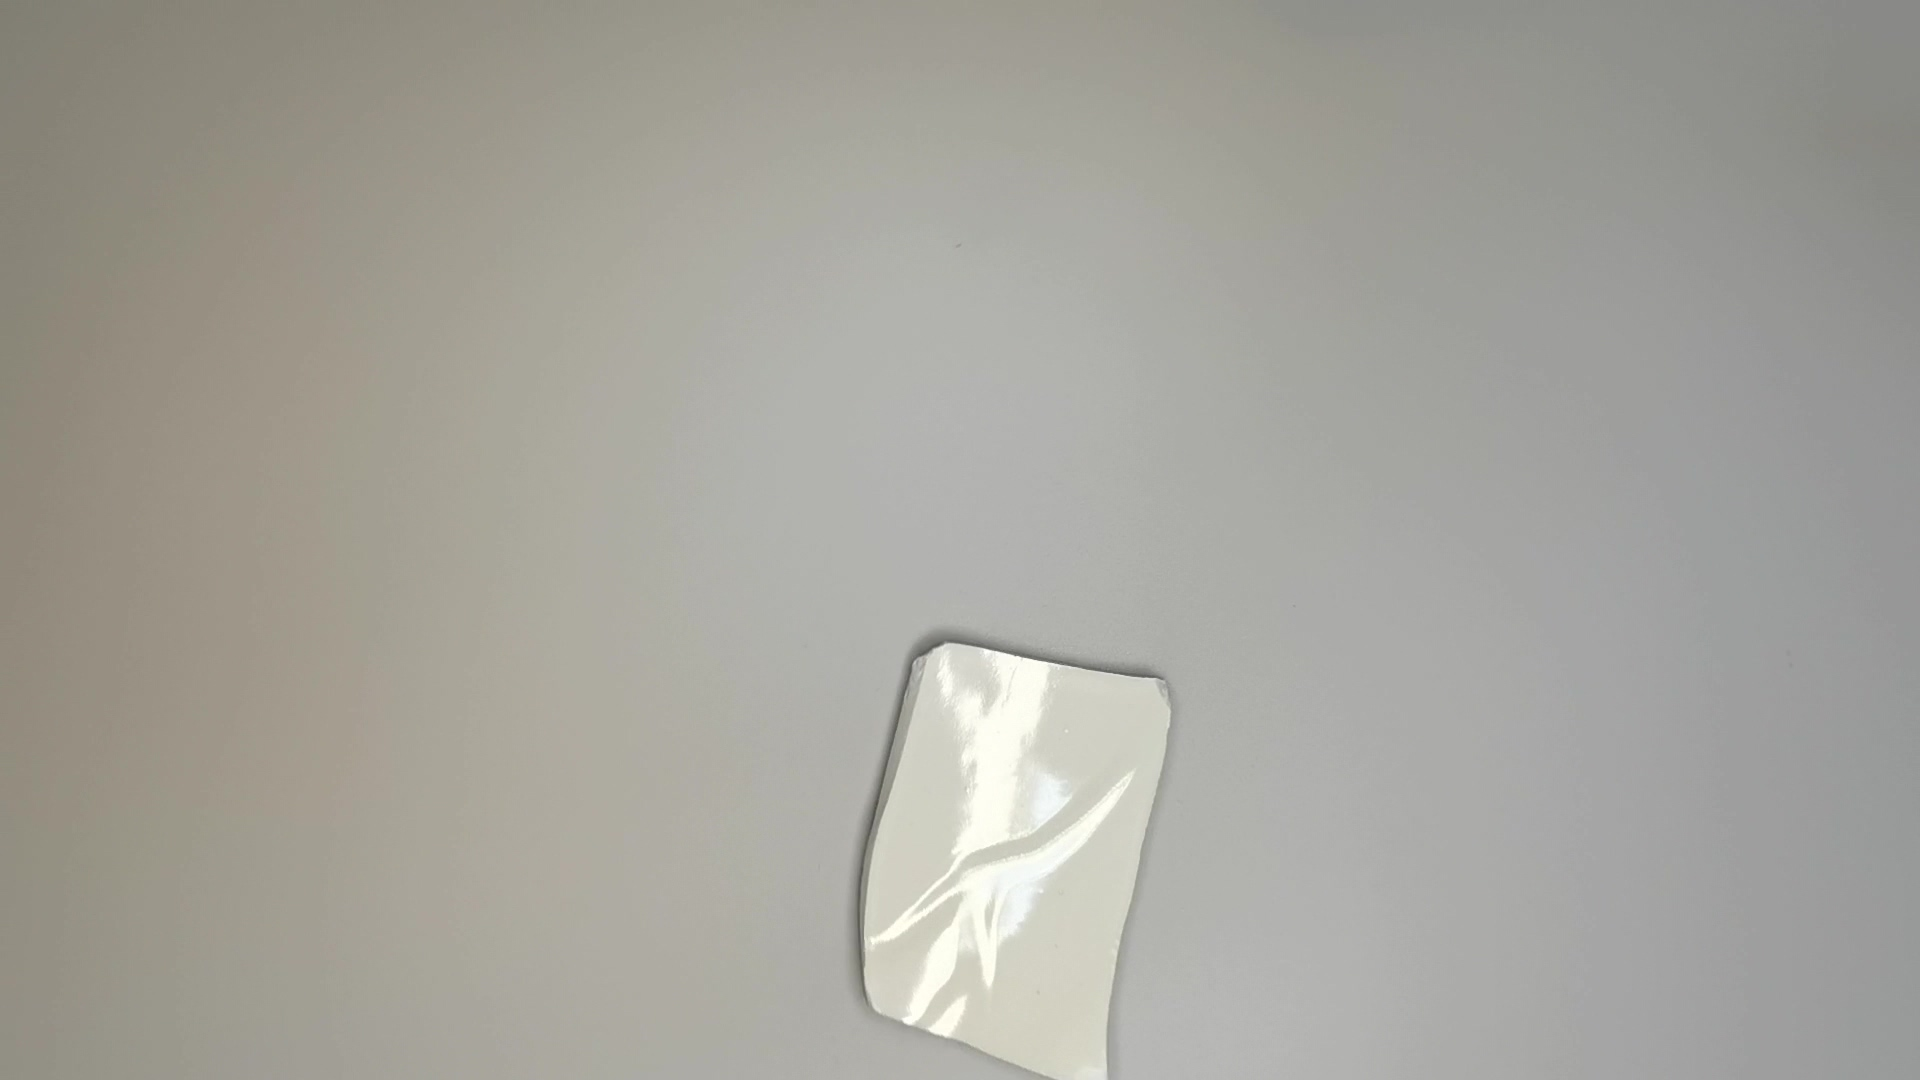ceramic: (851, 636, 1180, 1080)
